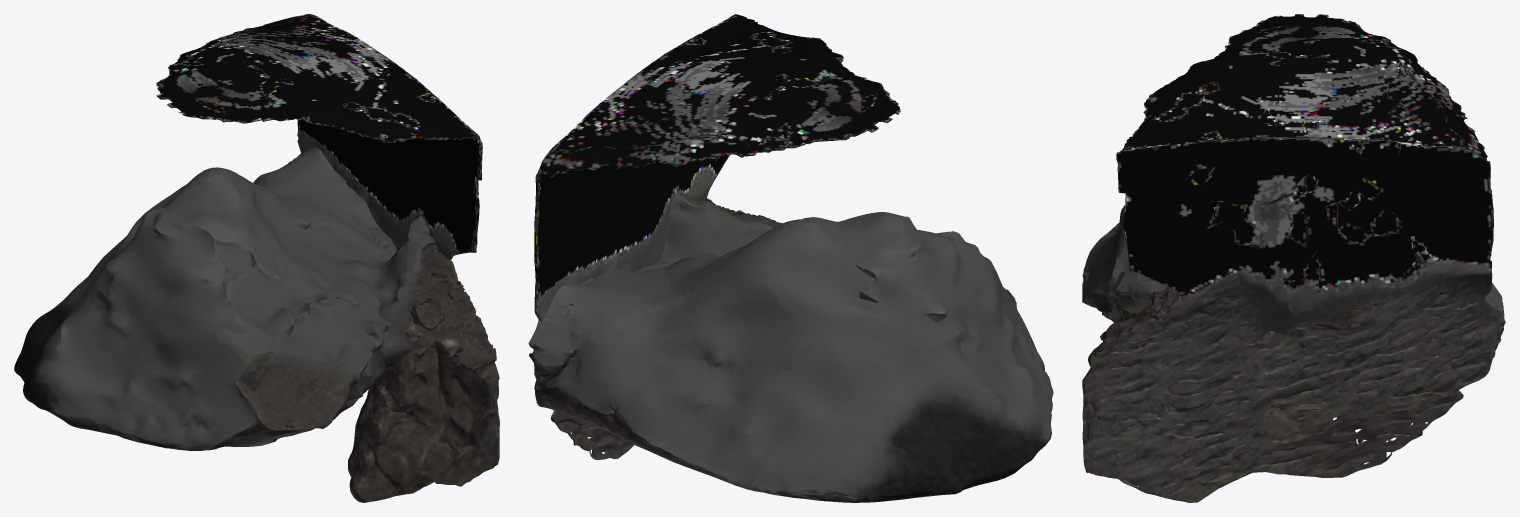
The picture shows the model from 3 angles, left to right: view 1: azimuth 30°, elevation 25°; view 2: azimuth 150°, elevation 25°; view 3: azimuth 270°, elevation 25°; orthographic projection. The views are drawn at different scales.
Visible parts, largest first — view 1: world; view 2: world; view 3: world.
Boxes of the visible parts, left/top/right/bottom form: world: left=14, top=14, right=499, bottom=502; world: left=528, top=14, right=1053, bottom=502; world: left=1082, top=14, right=1505, bottom=502.
Bounding box in the file's own units: 1.2 × 1.2 × 1.2.
Materials: 1 (1 with a texture image).
